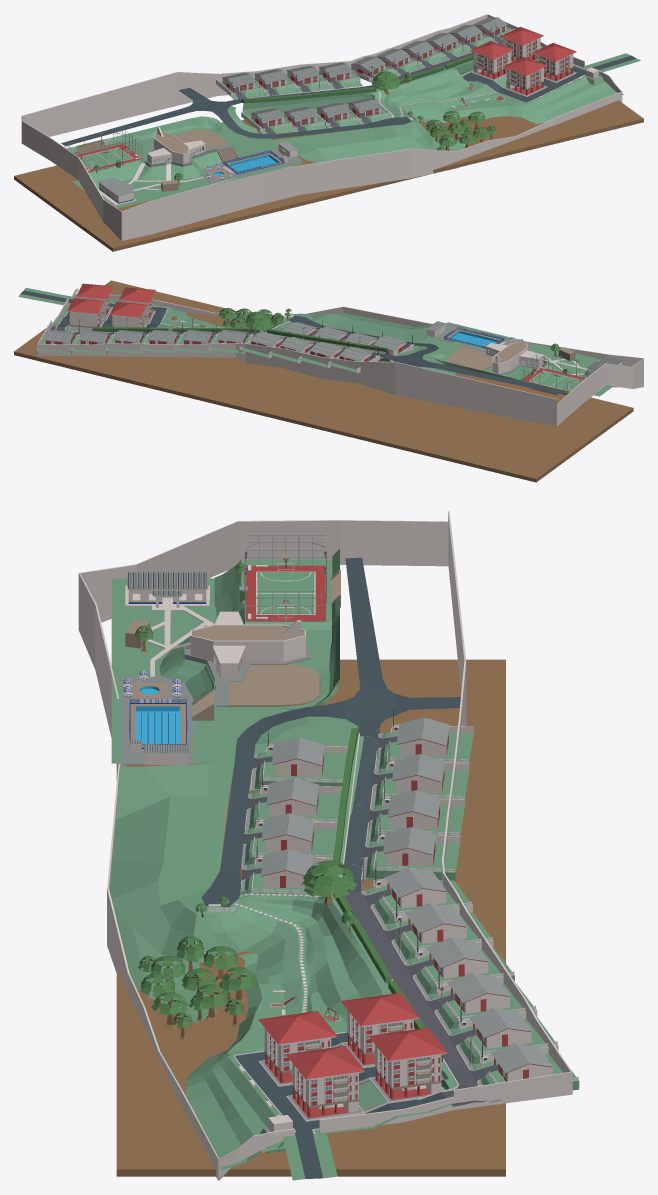
Rendered from santos_dumont_merged_new.gltf.
The picture shows the model from 3 angles, top to bottom: view 1: azimuth 30°, elevation 25°; view 2: azimuth 150°, elevation 25°; view 3: azimuth 270°, elevation 25°; orthographic projection. The views are drawn at different scales.
Visible parts, largest first — view 1: muro, grama, Length-310m, clube-upper, rua, clube-lower-plane, preio-telhado (×4), rua.002, cerca-casa (×3), cerca-viva, quadra, Circle.002 (+6 smaller); view 2: Length-310m, muro, grama, preio-telhado (×4), rua, clube-lower-plane, cerca-viva, rua.002, quadra, clube-upper, estacionamento, club-walls (+4 smaller); view 3: grama, Length-310m, muro, cerca-casa (×14), roof.001 (×14), rua, clube-lower-plane, preio-telhado (×4), clube-upper, rua.002, quadra, rua.003 (+9 smaller).
Part boxes in pixels (left/top/right/bottom): muro: left=21, top=14, right=622, bottom=240; grama: left=242, top=60, right=623, bottom=162; Length-310m: left=14, top=100, right=643, bottom=251; clube-upper: left=67, top=116, right=244, bottom=190; rua: left=61, top=85, right=411, bottom=145; clube-lower-plane: left=72, top=122, right=303, bottom=208; preio-telhado (×4): left=470, top=26, right=576, bottom=75; rua.002: left=463, top=46, right=640, bottom=102; cerca-casa (×3): left=216, top=78, right=298, bottom=134; cerca-viva: left=241, top=54, right=473, bottom=103; quadra: left=76, top=144, right=141, bottom=171; Circle.002: left=201, top=148, right=302, bottom=182; Length-310m: left=14, top=280, right=633, bottom=482; muro: left=37, top=288, right=643, bottom=426; grama: left=65, top=299, right=433, bottom=361; preio-telhado (×4): left=67, top=283, right=155, bottom=317; rua: left=254, top=315, right=565, bottom=394; clube-lower-plane: left=412, top=322, right=637, bottom=396; cerca-viva: left=92, top=327, right=387, bottom=352; rua.002: left=18, top=288, right=167, bottom=327; quadra: left=522, top=367, right=585, bottom=391; clube-upper: left=429, top=341, right=610, bottom=394; estacionamento: left=445, top=346, right=492, bottom=370; club-walls: left=492, top=341, right=527, bottom=373; grama: left=109, top=736, right=457, bottom=1170; Length-310m: left=116, top=659, right=505, bottom=1176; muro: left=78, top=511, right=572, bottom=1180; cerca-casa (×14): left=240, top=724, right=579, bottom=1102; roof.001 (×14): left=260, top=717, right=553, bottom=1072; rua: left=201, top=557, right=460, bottom=906; clube-lower-plane: left=111, top=578, right=356, bottom=763; preio-telhado (×4): left=258, top=992, right=447, bottom=1080; clube-upper: left=159, top=548, right=339, bottom=716; rua.002: left=235, top=1032, right=451, bottom=1180; quadra: left=246, top=565, right=325, bottom=620; rua.003: left=344, top=892, right=488, bottom=1106.
Bounding box in the file's own units: 339 × 45.7 × 129.
